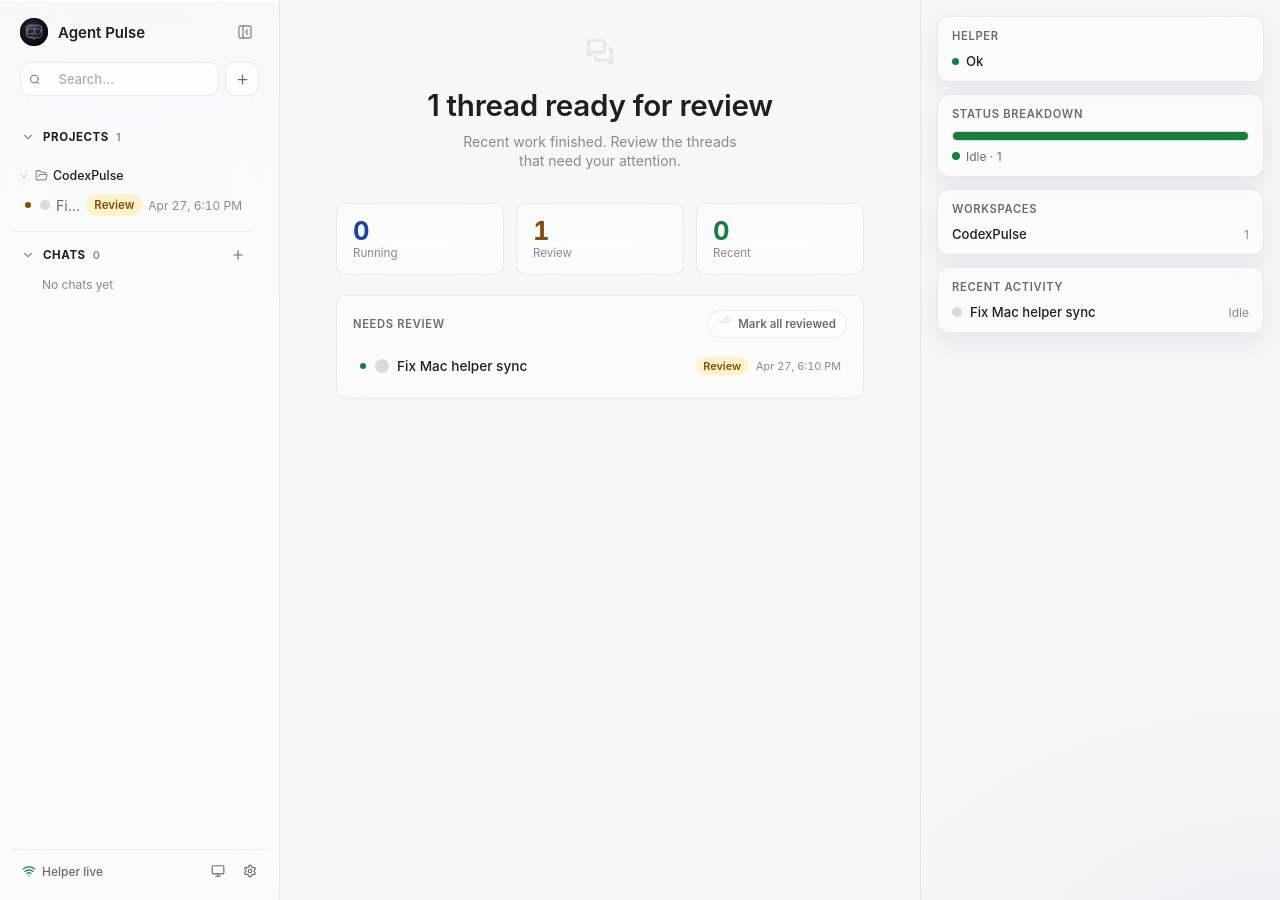
Scenario: Agent Pulse tablet UI › shows working in real time from Codex stream broadcasts even when the transcript still says ready
Click the button named "Open chat for Fix Mac helper sync". click: click(132, 205)
box: [12,189,252,221]
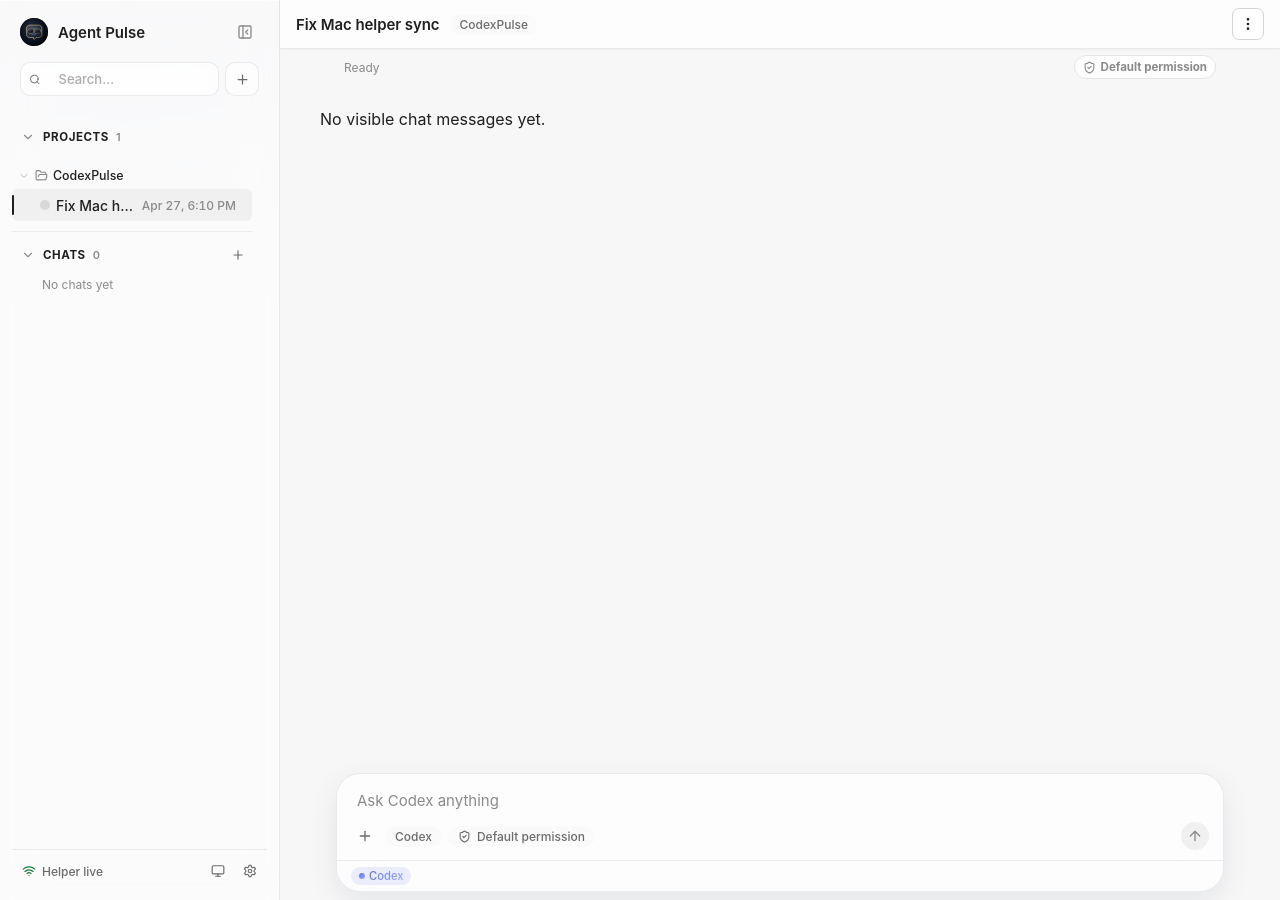
Expected: the form named "Stop Codex" is shown, [320,765,1240,899]
Expected: the button "Fix Mac helper sync Review Apr 27, 6:10 PM" is gone
Expected: the button named "Stop Codex" is shown, [1181,822,1209,850]
